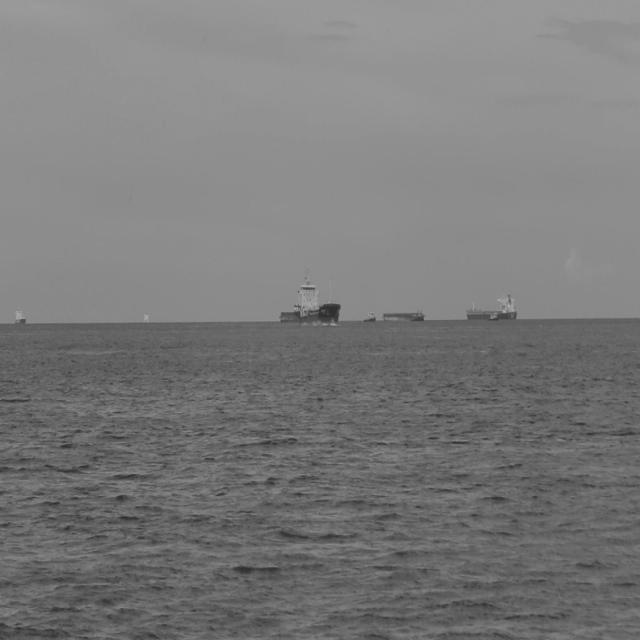ship: (278, 268, 340, 326), (466, 292, 520, 326), (381, 308, 426, 328), (14, 309, 28, 330)
